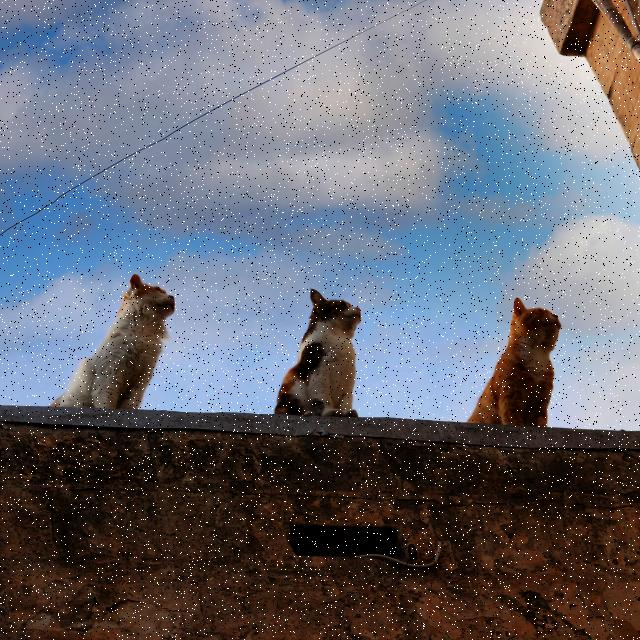cat: (51, 274, 175, 409), (469, 299, 561, 426), (275, 290, 361, 417)
